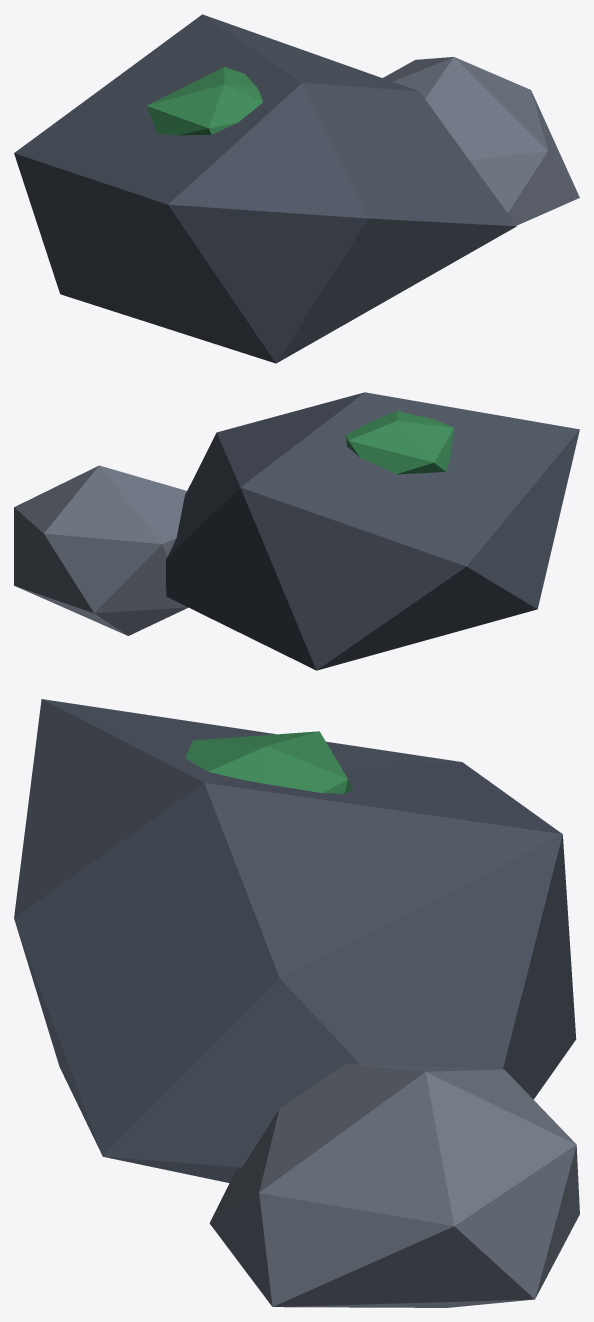
Rendered from sea_rock_small.glb.
3 renders of one model, top to bottom at view 1: azimuth 30°, elevation 25°; view 2: azimuth 150°, elevation 25°; view 3: azimuth 270°, elevation 25°, orthographic. The views are drawn at different scales.
Visible parts, largest first — view 1: sea_rock_small; view 2: sea_rock_small; view 3: sea_rock_small.
Part boxes in pixels (bbox=[...]): sea_rock_small: bbox=[14, 14, 579, 363]; sea_rock_small: bbox=[14, 392, 579, 670]; sea_rock_small: bbox=[14, 699, 579, 1307].
Bounding box in the file's own units: 0.6085 × 0.2922 × 0.3765.
